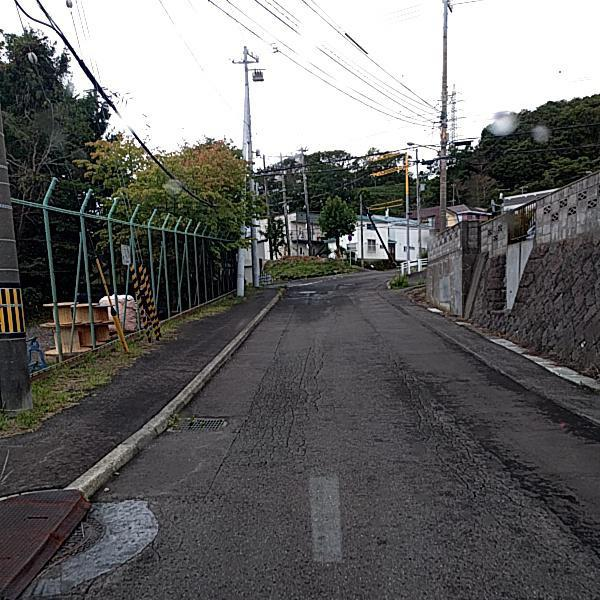D20: (384, 351, 583, 572), (240, 350, 340, 473)
